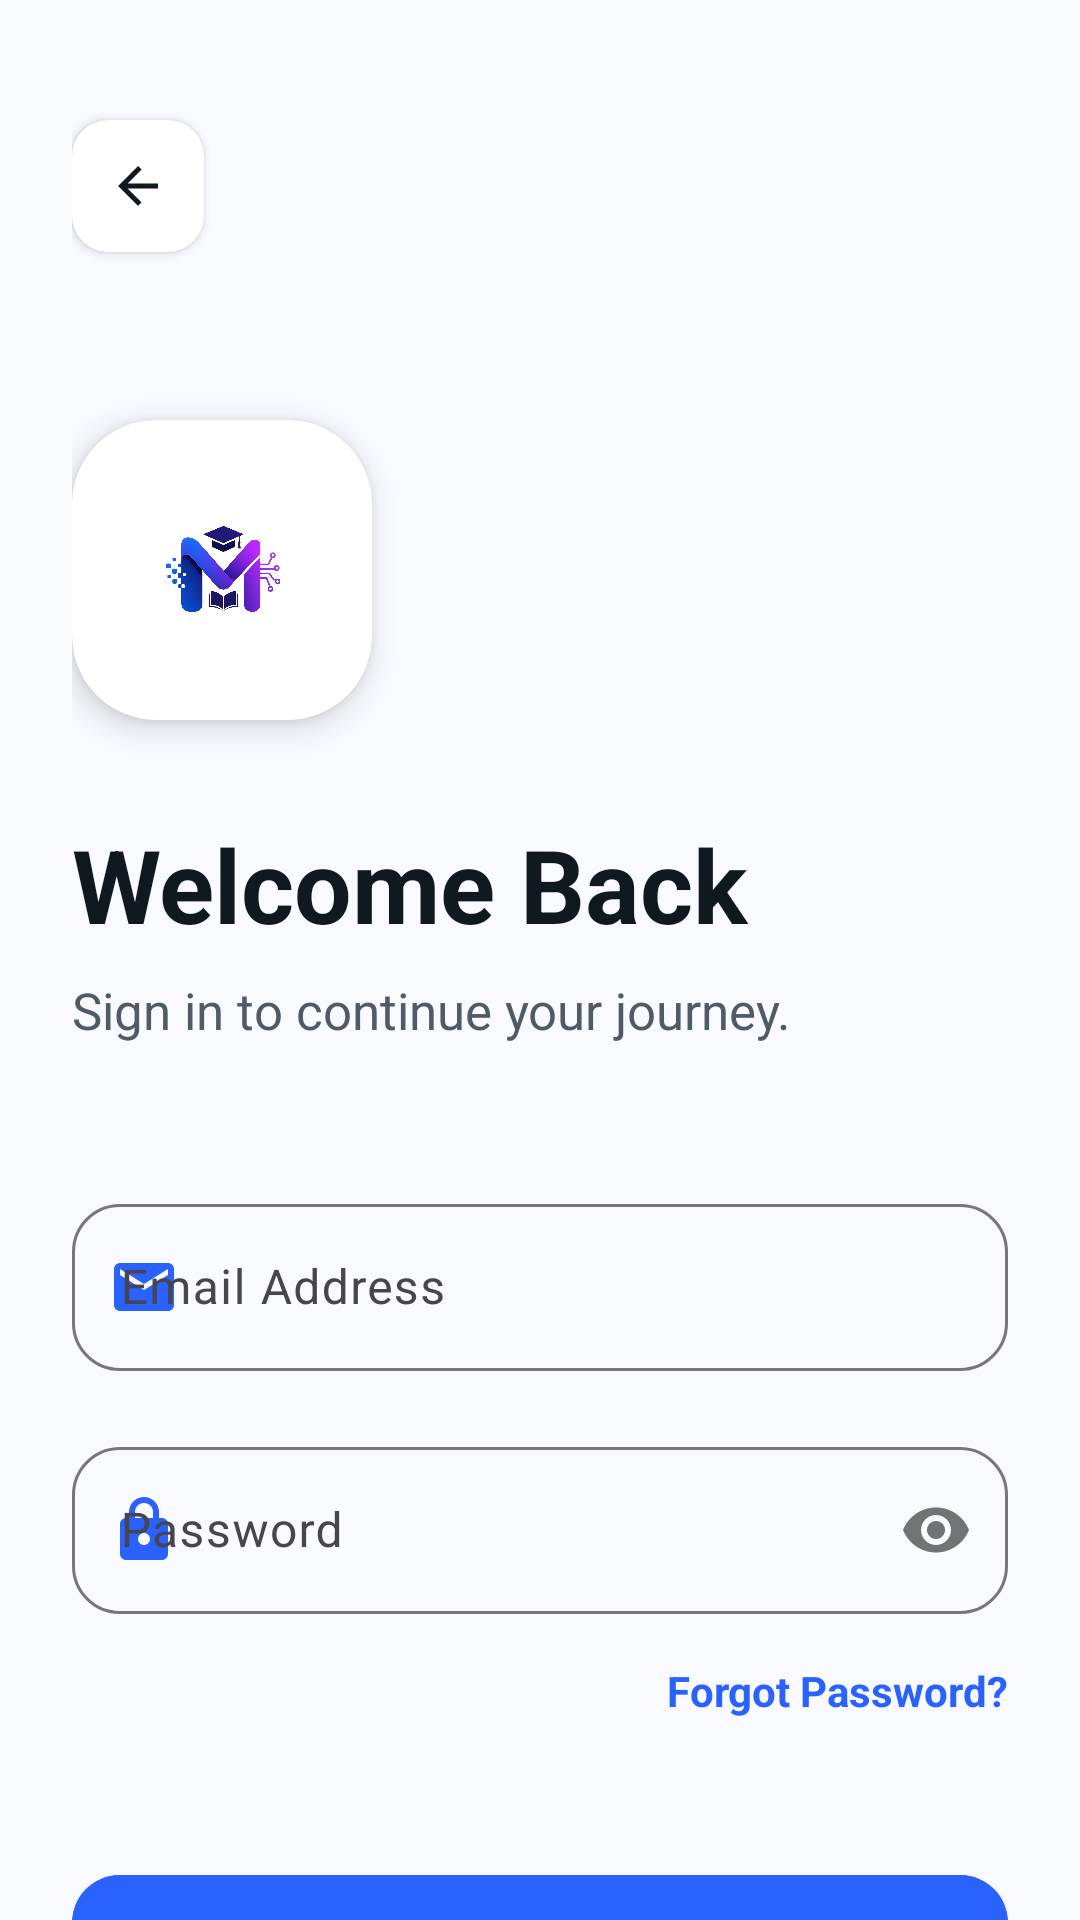

Named icons in this screenshot (1080×1920) and their centers, [x,y]:
back: [138,186]
